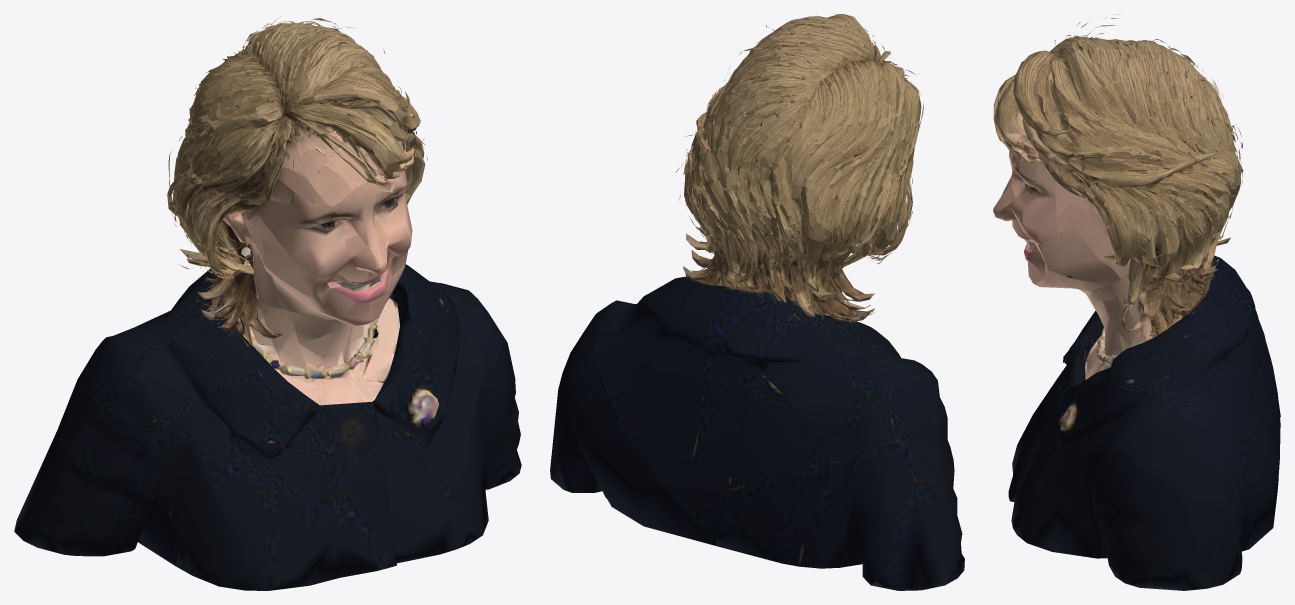
The picture shows the model from 3 angles, left to right: view 1: azimuth 30°, elevation 25°; view 2: azimuth 150°, elevation 25°; view 3: azimuth 270°, elevation 25°; orthographic projection. The views are drawn at different scales.
Size of the model in its own units: 1.8 by 1.87 by 1.08.
1 material, 1 textured.
